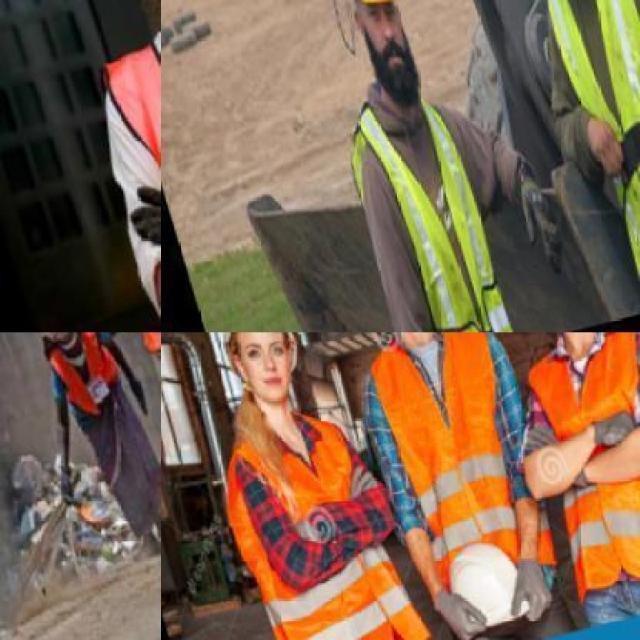Vest: (186, 383, 431, 639), (350, 332, 562, 610), (324, 75, 514, 331), (504, 332, 638, 622), (514, 0, 638, 309), (90, 0, 158, 331), (32, 332, 128, 423)
